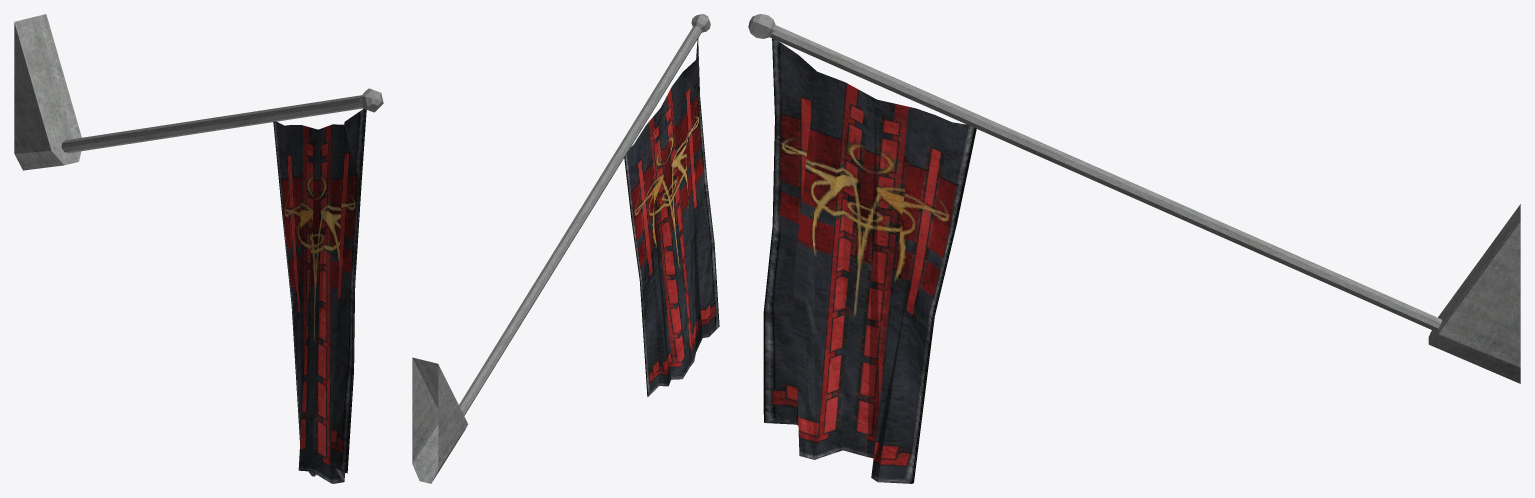
File: thm_corl_banner_govt_angled_l0.fbx
3 views of the same model, side by side, from view 1: azimuth 30°, elevation 25°; view 2: azimuth 150°, elevation 25°; view 3: azimuth 270°, elevation 25° (orthographic). The views are drawn at different scales.
Parts seen in each view (by area): view 1: mesh_node; view 2: mesh_node; view 3: mesh_node.
Boxes of the visible parts, x1,y1,x2,y2 form: mesh_node: (14,14,383,483); mesh_node: (412,14,719,483); mesh_node: (748,14,1520,483).
Size of the model in its own units: 0.3603 by 3.5 by 5.21.
